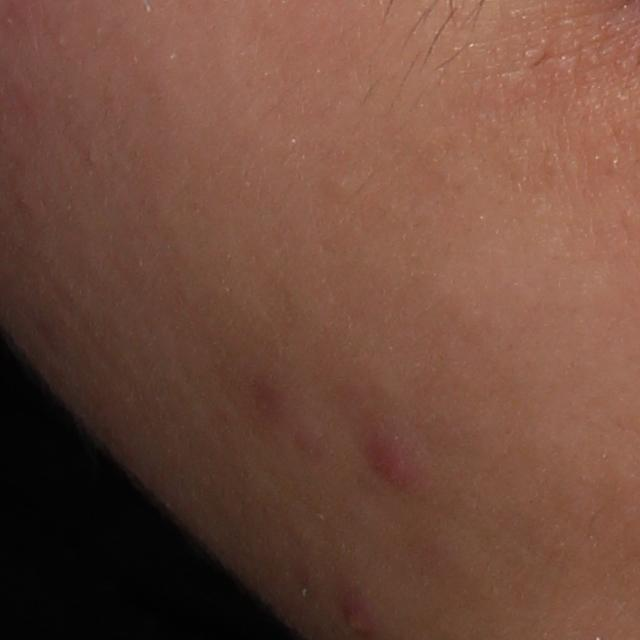papule: (361, 428, 415, 494)
